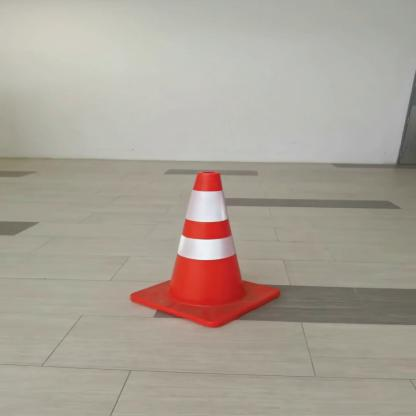cone: (125, 165, 286, 326)
